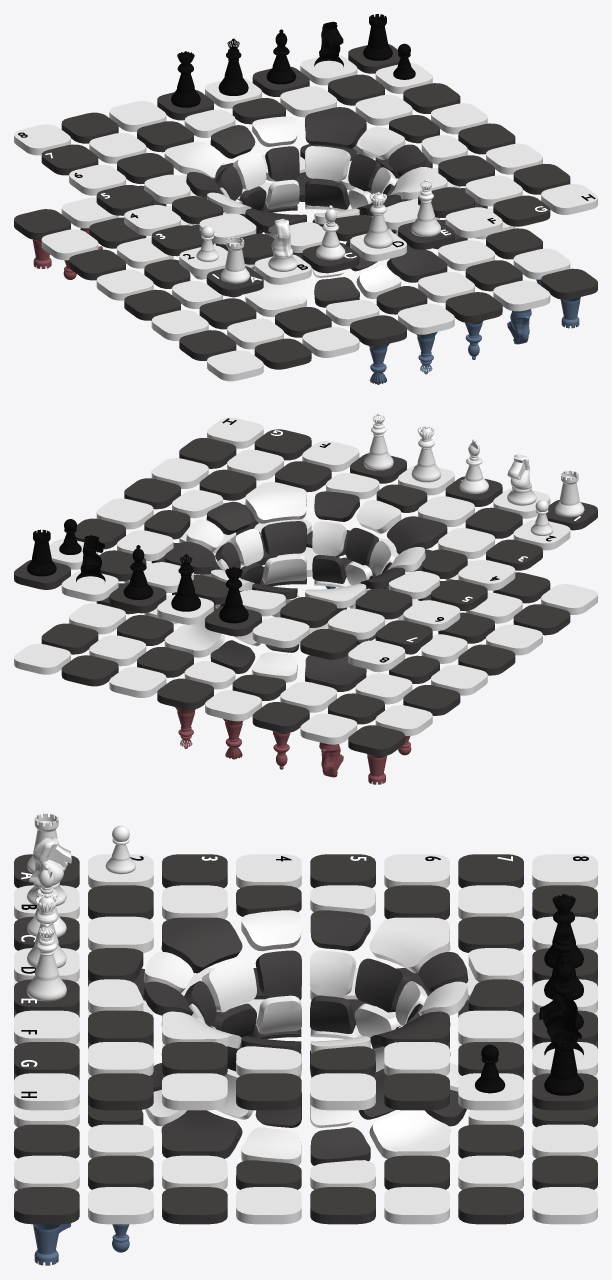
The model's file is WormWholeChess_FINAL - SinglePieces.glb.
3 views of the same model, one above another, from view 1: azimuth 30°, elevation 25°; view 2: azimuth 150°, elevation 25°; view 3: azimuth 270°, elevation 25° (orthographic). The views are drawn at different scales.
Parts seen in each view (by area): view 1: f6_T, c3_B, c6_T, f3_B, e5_1_T, a1_B, g1_B, b1_B, f1_B, c1_B, d1_B, e1_B (+103 smaller); view 2: f3_T, c6_B, c3_T, f6_B, e4_1_T, a8_B, g8_B, b8_B, f8_B, b8_T, c8_B, c8_T (+103 smaller); view 3: c6_T, c3_T, f3_B, f6_B, h4_T, h5_T, h2_T, h3_T, h6_T, h3_B, h4_B, h5_B (+105 smaller).
Boxes of the visible parts, box(x1,y1,x2,y2) form: f6_T: box(305, 107, 366, 148); c3_B: box(245, 279, 306, 316); c6_T: box(164, 141, 224, 179); f3_B: box(387, 244, 447, 282); e5_1_T: box(305, 146, 350, 181); a1_B: box(207, 350, 263, 381); g1_B: box(493, 280, 550, 311); b1_B: box(254, 338, 311, 369); f1_B: box(445, 292, 502, 322); c1_B: box(302, 327, 359, 357); d1_B: box(350, 315, 406, 346); e1_B: box(398, 303, 454, 334); f3_T: box(245, 482, 306, 523); c6_B: box(305, 654, 366, 691); c3_T: box(387, 516, 447, 554); f6_B: box(164, 619, 224, 657); e4_1_T: box(261, 521, 306, 556); a8_B: box(348, 725, 404, 756); g8_B: box(61, 655, 118, 686); b8_B: box(300, 713, 357, 744); f8_B: box(109, 667, 166, 697); b8_T: box(300, 629, 357, 659); c8_B: box(252, 702, 309, 732); c8_T: box(252, 617, 309, 648); c6_T: box(369, 917, 450, 973); c3_T: box(161, 917, 242, 973); f3_B: box(161, 1110, 242, 1158); f6_B: box(369, 1110, 450, 1158); h4_T: box(236, 1073, 301, 1110); h5_T: box(310, 1073, 375, 1110); h2_T: box(88, 1073, 153, 1110); h3_T: box(162, 1073, 227, 1110); h6_T: box(384, 1073, 449, 1110); h3_B: box(162, 1187, 227, 1224); h4_B: box(236, 1187, 301, 1224); h5_B: box(310, 1187, 375, 1224).
Size of the model in its own units: 8.49 by 4.19 by 8.49.
